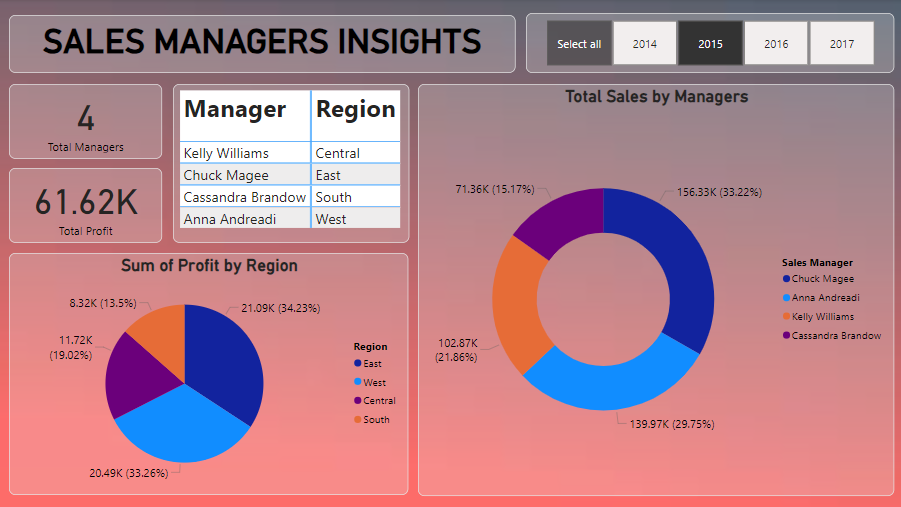

The page's visual inventory and layout, read from the dashboard file:
{"tool":"powerbi","page":{"name":"sales managers","canvas":[1280,720],"ordinal":3},"visuals":[{"type":"card","fields":{"Values":["People.Manager"]},"box":[12.9,120.1,217.4,105.8],"z":0},{"type":"tableEx","fields":{"Values":["People.Manager","People.Region"]},"box":[244.6,120.1,334.7,224.5],"z":1000},{"type":"donutChart","title":"Total Sales by Managers","fields":{"Category":["People.Manager"],"Y":["Orders.Sales"]},"box":[592.1,120.1,675,583.5],"z":2000},{"type":"pieChart","fields":{"Category":["Orders.Region"],"Y":["Orders.Profit"]},"box":[12.9,360.4,566.3,343.2],"z":3000},{"type":"card","fields":{"Values":["Orders.Profit"]},"box":[12.9,238.8,217.4,105.8],"z":4000},{"type":"slicer","fields":{"Values":["Orders.Order Date.Variation.Date Hierarchy.Year"]},"box":[745.5,19.8,521.6,85],"z":5000},{"type":"textbox","box":[12.9,22.9,717.9,81.5],"z":6000}]}

Visuals, with their boxes in screenshot pixels (x1, y1, x2, y2), scaled from the page's 1280x720 canvas onto the 901x507 screenshot:
card - People.Manager: 9,85,162,159
tableEx - People.Manager x People.Region: 172,85,408,243
"Total Sales by Managers" donutChart: 417,85,892,495
pieChart - Orders.Region x Orders.Profit: 9,254,408,495
card - Orders.Profit: 9,168,162,243
slicer - Orders.Order Date.Variation.Date Hierarchy.Year: 525,14,892,74
textbox: 9,16,514,74
